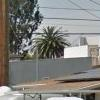Palm tree: (28, 19, 68, 58)
